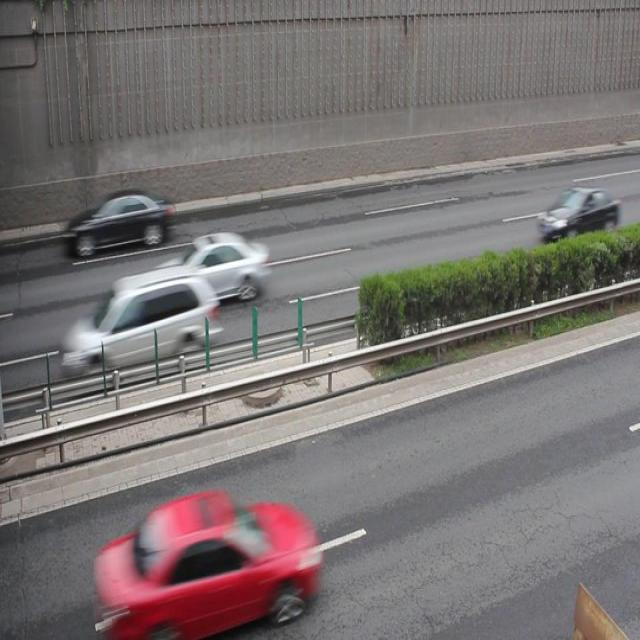car: (104, 487, 319, 640), (63, 263, 218, 375), (154, 230, 267, 301), (66, 186, 171, 256), (536, 184, 616, 241)
